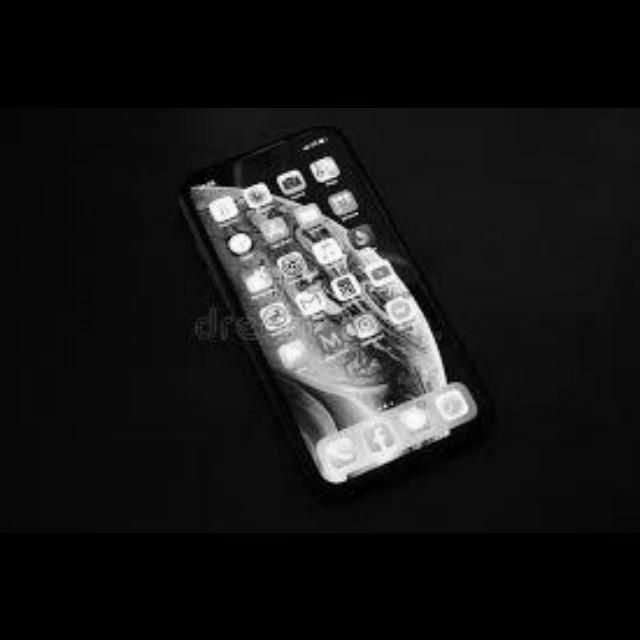fake: (139, 116, 529, 501)
